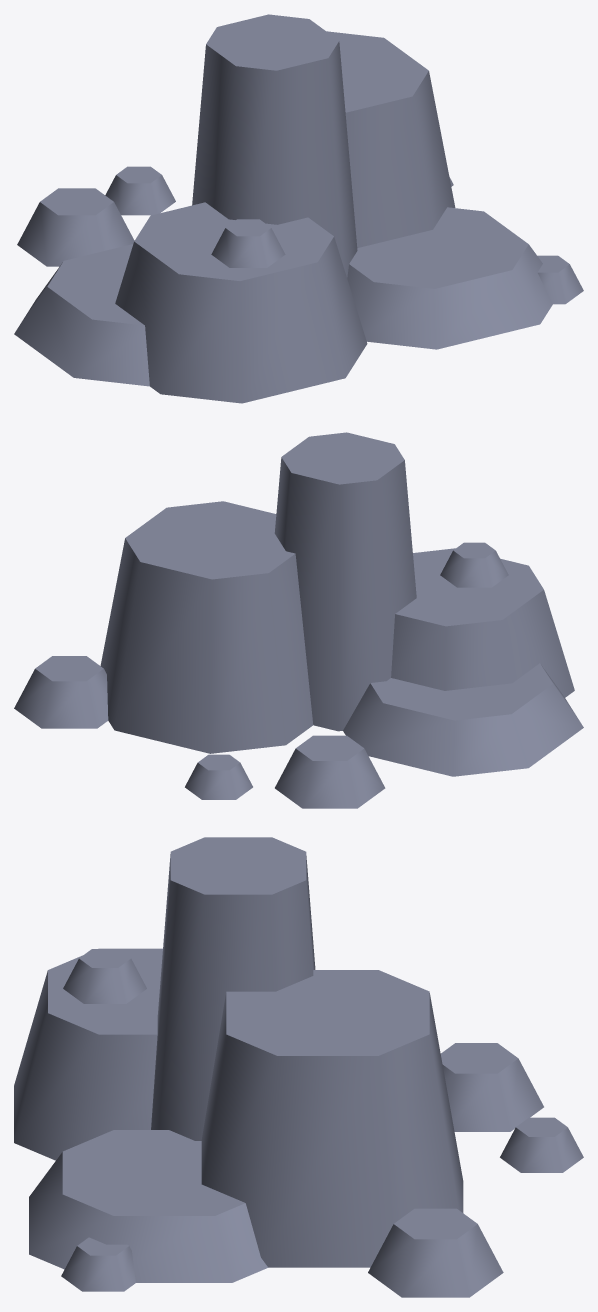
Rendered from stones.glb.
The picture shows the model from 3 angles, top to bottom: view 1: azimuth 30°, elevation 25°; view 2: azimuth 150°, elevation 25°; view 3: azimuth 270°, elevation 25°; orthographic projection. The views are drawn at different scales.
Visible parts, largest first — view 1: stones; view 2: stones; view 3: stones.
Boxes of the visible parts, <box> form: stones: <box>14,14,583,403</box>; stones: <box>14,432,583,808</box>; stones: <box>14,837,583,1297</box>.
Bounding box in the file's own units: 0.8924 × 0.4539 × 0.8045.
